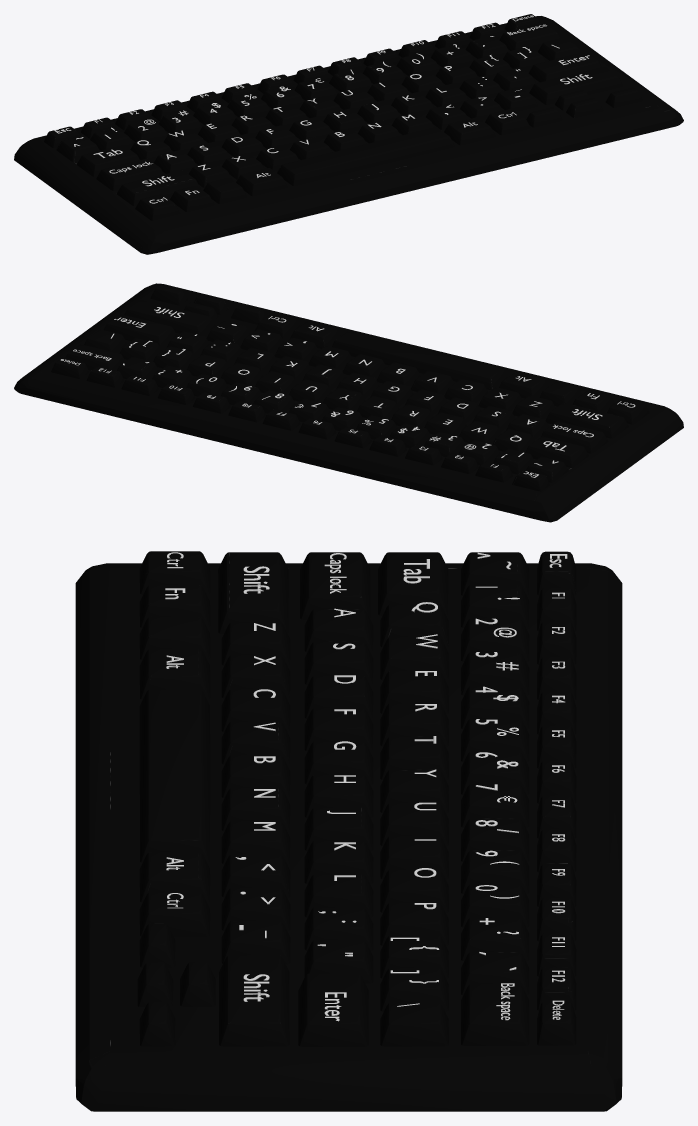
The model's file is KeyboardV4.fbx.
3 views of the same model, one above another, from view 1: azimuth 30°, elevation 25°; view 2: azimuth 150°, elevation 25°; view 3: azimuth 270°, elevation 25° (orthographic). The views are drawn at different scales.
Visible parts, largest first — view 1: Board; view 2: Board; view 3: Board.
Boxes of the visible parts, box(x1,y1,x2,y2) form: Board: box(14, 14, 683, 254); Board: box(14, 283, 683, 522); Board: box(75, 551, 622, 1111).
Size of the model in its own units: 489 by 26.92 by 213.
